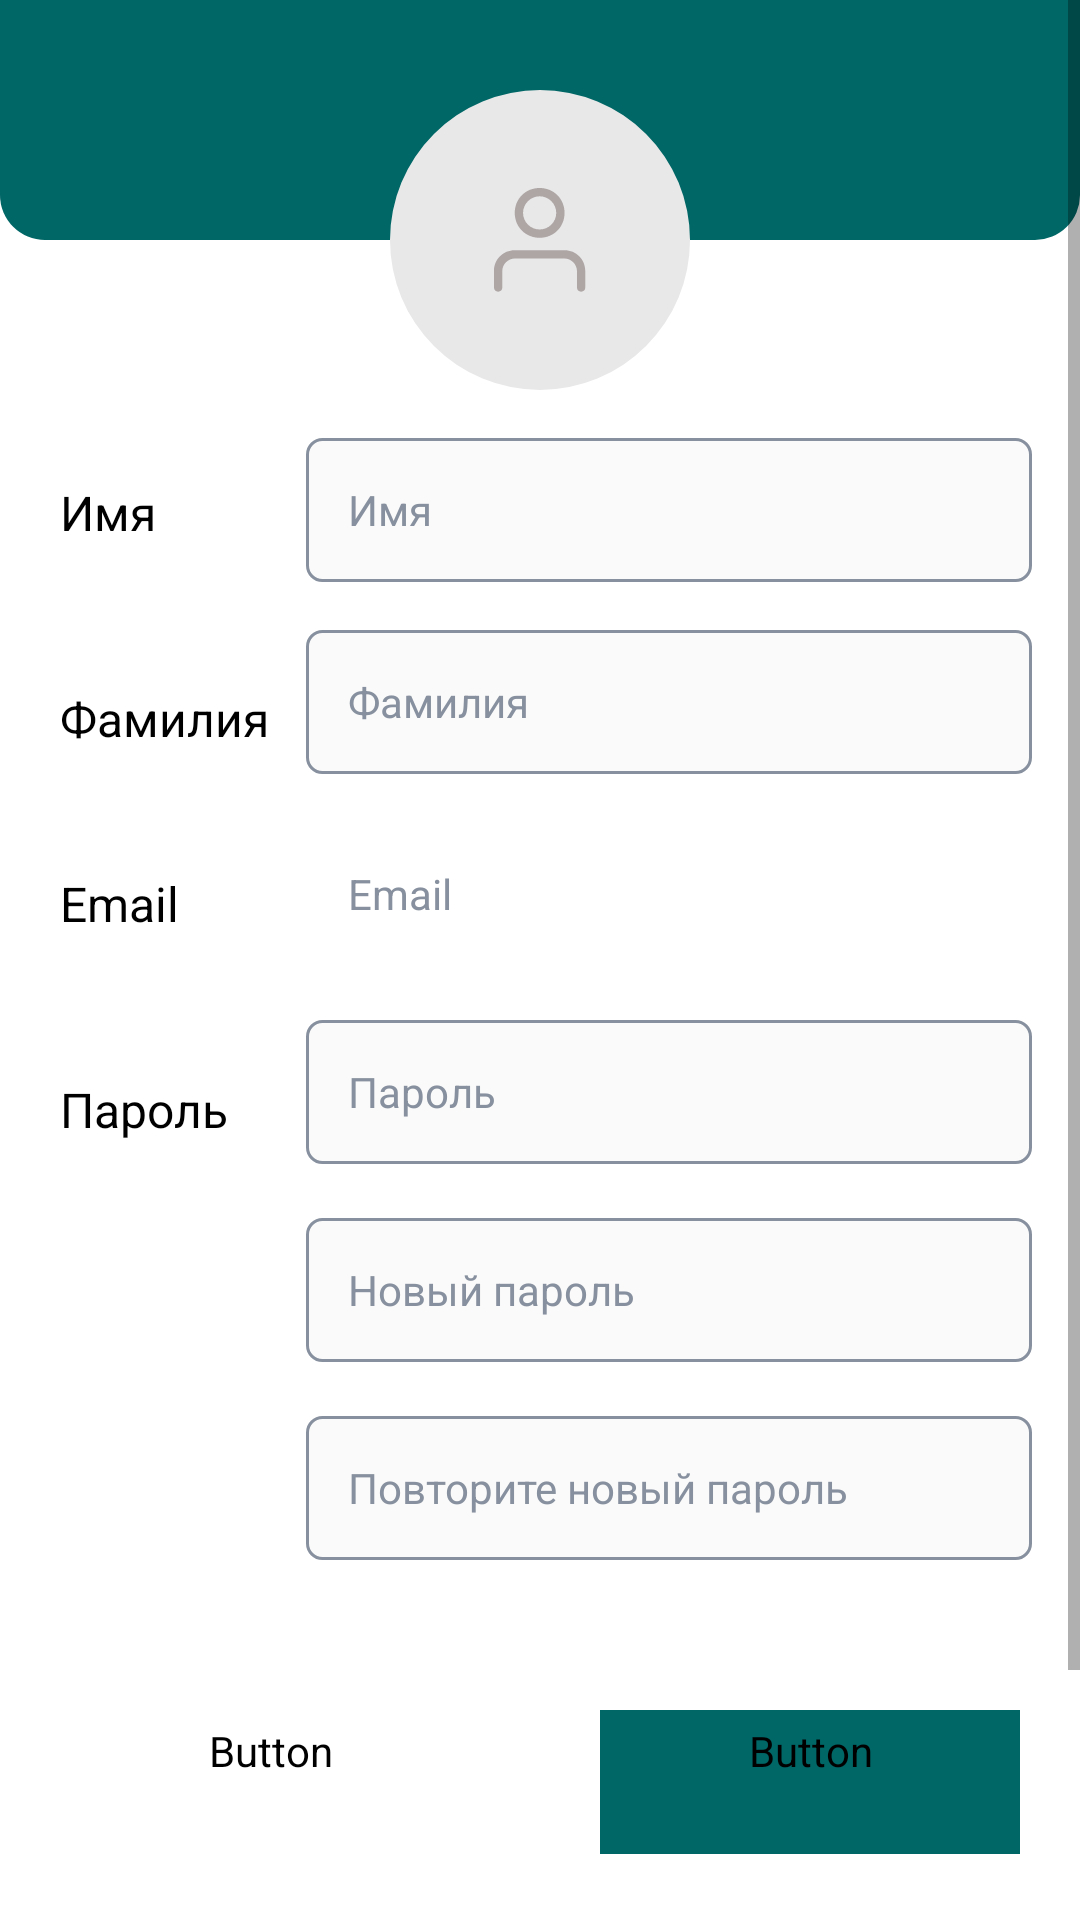

Screen size 1080px x 1920px. Icon name, then its center in pixels as (x=x, y=y):
user: (x=540, y=240)
